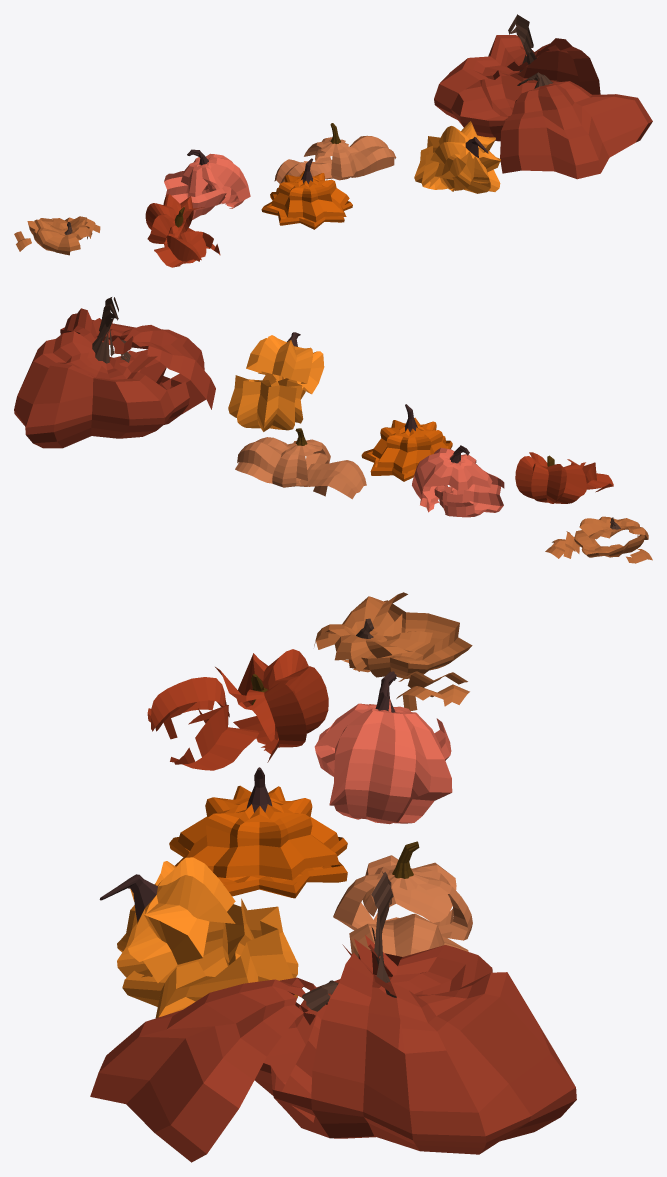
The model's file is Jam.SmashedPumpkinsFINAL.fbx.
3 views of the same model, one above another, from view 1: azimuth 30°, elevation 25°; view 2: azimuth 150°, elevation 25°; view 3: azimuth 270°, elevation 25° (orthographic). The views are drawn at different scales.
Visible parts, largest first — view 1: round4, sharp3, round2, sharp2, round3, sharp1, round1; view 2: round4, sharp3, round3, round2, sharp2, sharp1, round1; view 3: round4, sharp3, sharp2, round2, sharp1, round1, round3.
Boxes of the visible parts, x1,y1,x2,y2 form: round4: [434, 14, 652, 179]; sharp3: [414, 121, 500, 193]; round2: [164, 149, 250, 219]; sharp2: [261, 158, 352, 229]; round3: [274, 123, 396, 183]; sharp1: [145, 194, 220, 267]; round1: [14, 216, 100, 255]; round4: [14, 297, 215, 448]; sharp3: [228, 332, 324, 431]; round3: [235, 428, 366, 499]; round2: [412, 445, 504, 517]; sharp2: [361, 404, 452, 481]; sharp1: [515, 452, 613, 503]; round1: [545, 516, 652, 563]; round4: [90, 871, 576, 1162]; sharp3: [99, 857, 298, 1018]; sharp2: [169, 767, 347, 898]; round2: [314, 671, 452, 824]; sharp1: [147, 649, 328, 770]; round1: [314, 592, 472, 710]; round3: [333, 841, 472, 957].
Bounding box in the file's own units: 1935 × 388 × 696.
